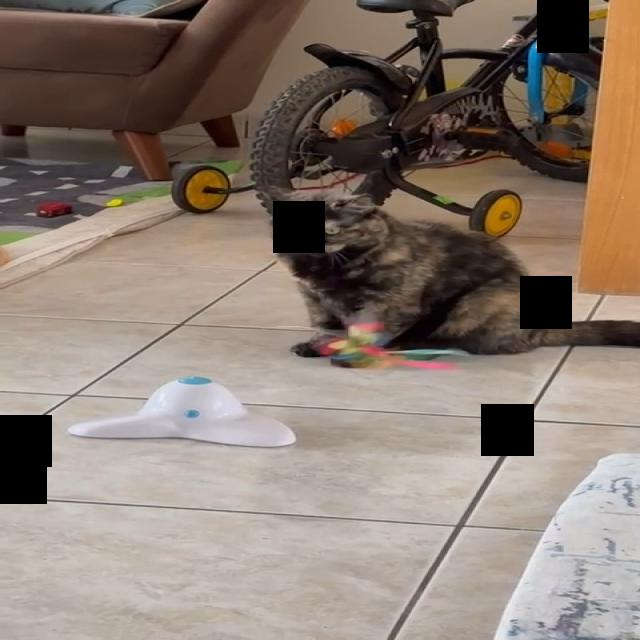authorized: (264, 185, 639, 358)
